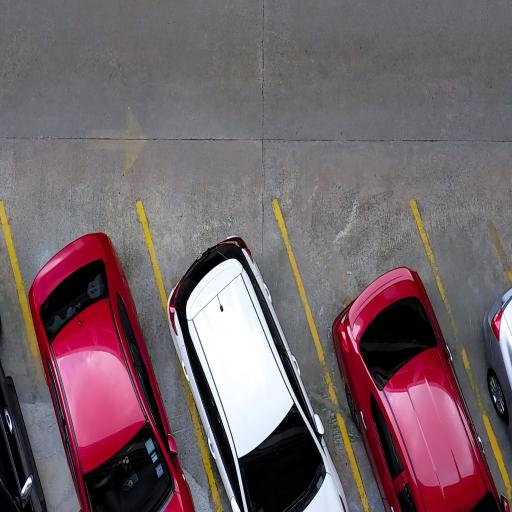Illegal-parking: (141, 229, 366, 512)
Slot-occupied: (8, 217, 202, 512), (305, 249, 512, 512)
